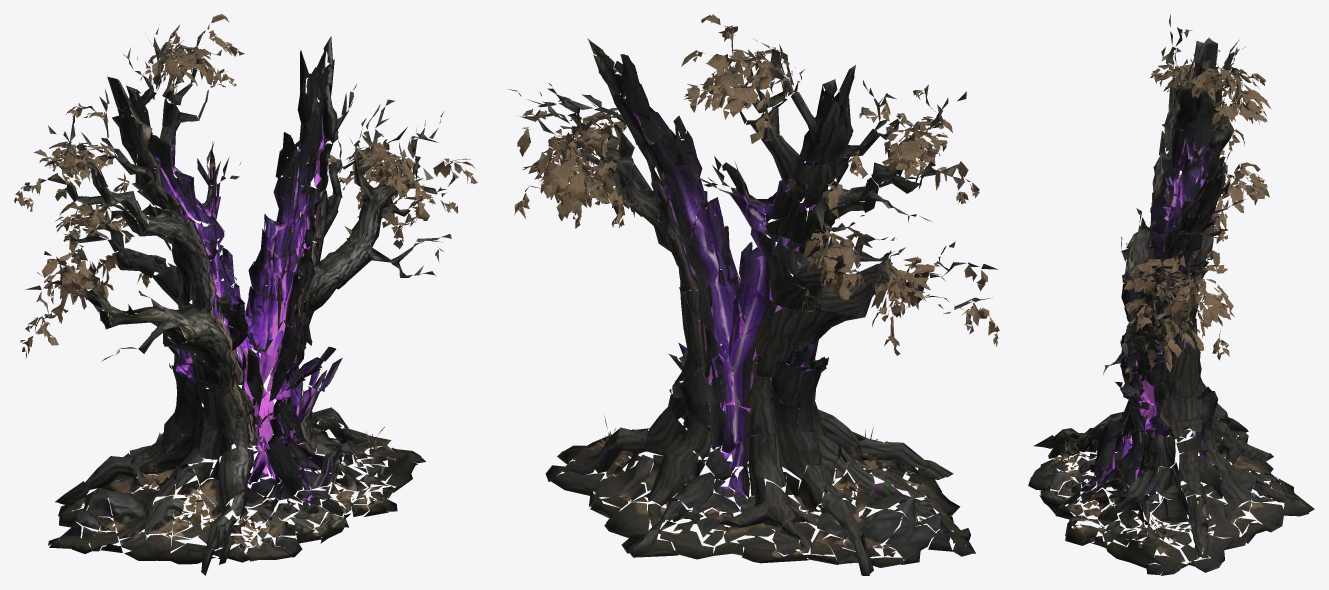
Rendered from storm_tree.glb.
3 renders of one model, left to right at view 1: azimuth 30°, elevation 25°; view 2: azimuth 150°, elevation 25°; view 3: azimuth 270°, elevation 25°, orthographic. The views are drawn at different scales.
Visible parts, largest first — view 1: LairStormTree; view 2: LairStormTree; view 3: LairStormTree.
Boxes of the visible parts, x1=… form: LairStormTree: x1=14, y1=14, x2=477, y2=575; LairStormTree: x1=508, y1=14, x2=999, y2=575; LairStormTree: x1=1028, y1=14, x2=1314, y2=575.
Bounding box in the file's own units: 0.9975 × 0.9939 × 0.5949.
1 material, 1 textured.
